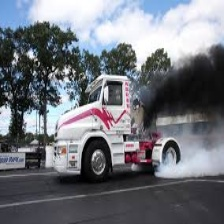smoke: (141, 49, 224, 125), (162, 148, 224, 183)
